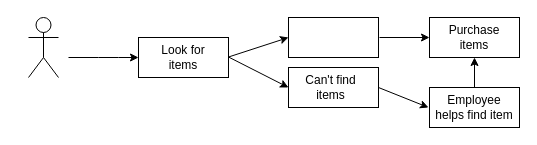
This 537x145 diagram has some shape labels left out. The shapes that lost their labels are listed below. From the top down, each one's box as (x1, y1, x2, y2) in pixels, then its label:
(28, 16, 58, 78): Customer
(288, 16, 378, 58): Found items
